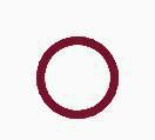RadioButton: (1, 1, 154, 139)
